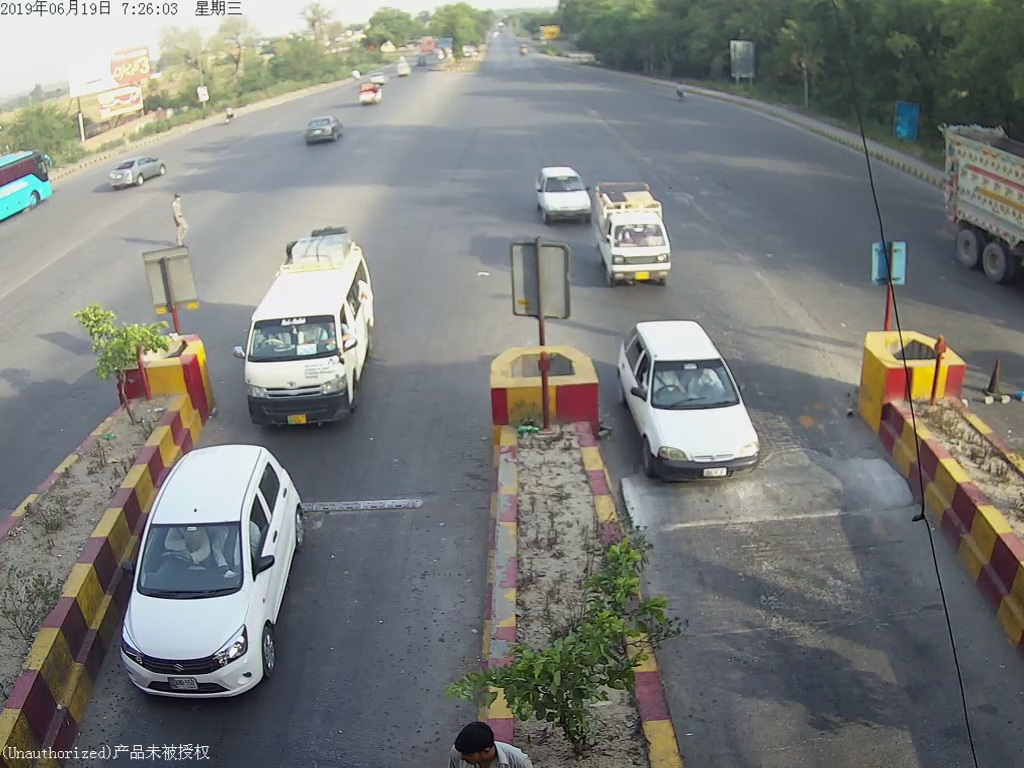Cat-1: (121, 443, 317, 702), (626, 321, 772, 493), (595, 179, 684, 290), (531, 162, 588, 226)
Cat-2: (243, 228, 377, 431)
